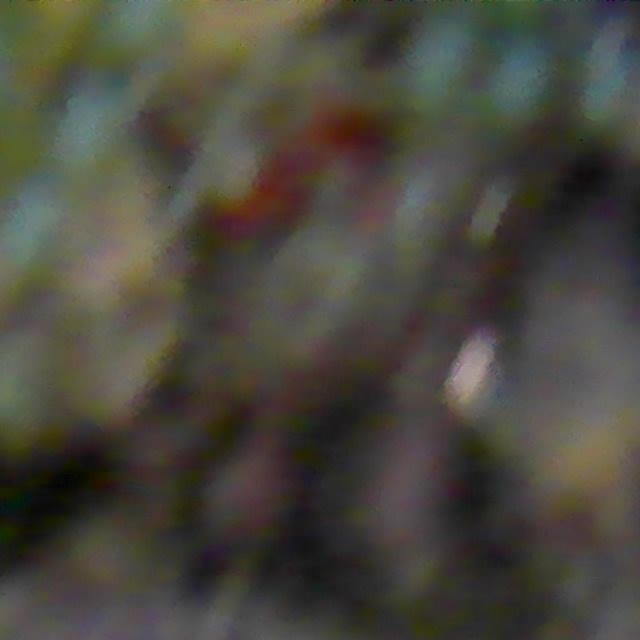SeaGrape: (204, 438, 296, 539), (399, 14, 480, 111), (481, 39, 560, 128), (96, 0, 194, 59)
